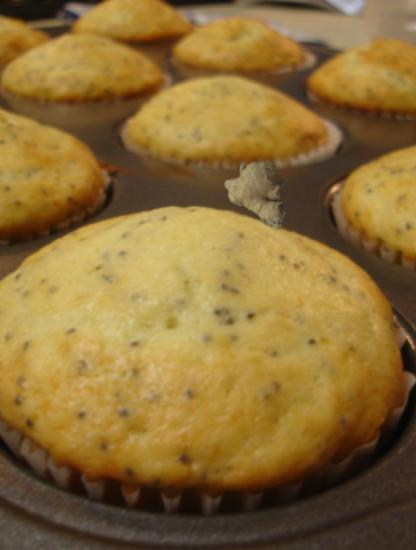Ginger: (222, 160, 297, 235)
